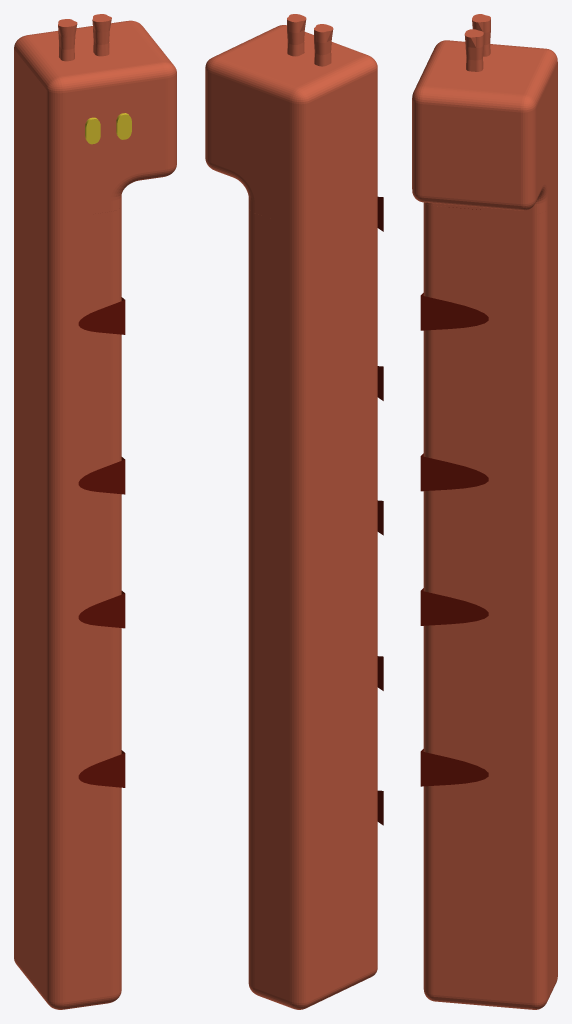
Rendered from 单个长颈鹿.dae.
The picture shows the model from 3 angles, left to right: view 1: azimuth 30°, elevation 25°; view 2: azimuth 150°, elevation 25°; view 3: azimuth 270°, elevation 25°; orthographic projection.
Parts seen in each view (by area): view 1: _______; view 2: _______; view 3: _______.
Part boxes in pixels (bbox=[...]): _______: bbox=[14, 14, 176, 1009]; _______: bbox=[205, 14, 383, 1009]; _______: bbox=[412, 14, 557, 1009].
Bounding box in the file's own units: 1.57 × 10.66 × 1.45.
